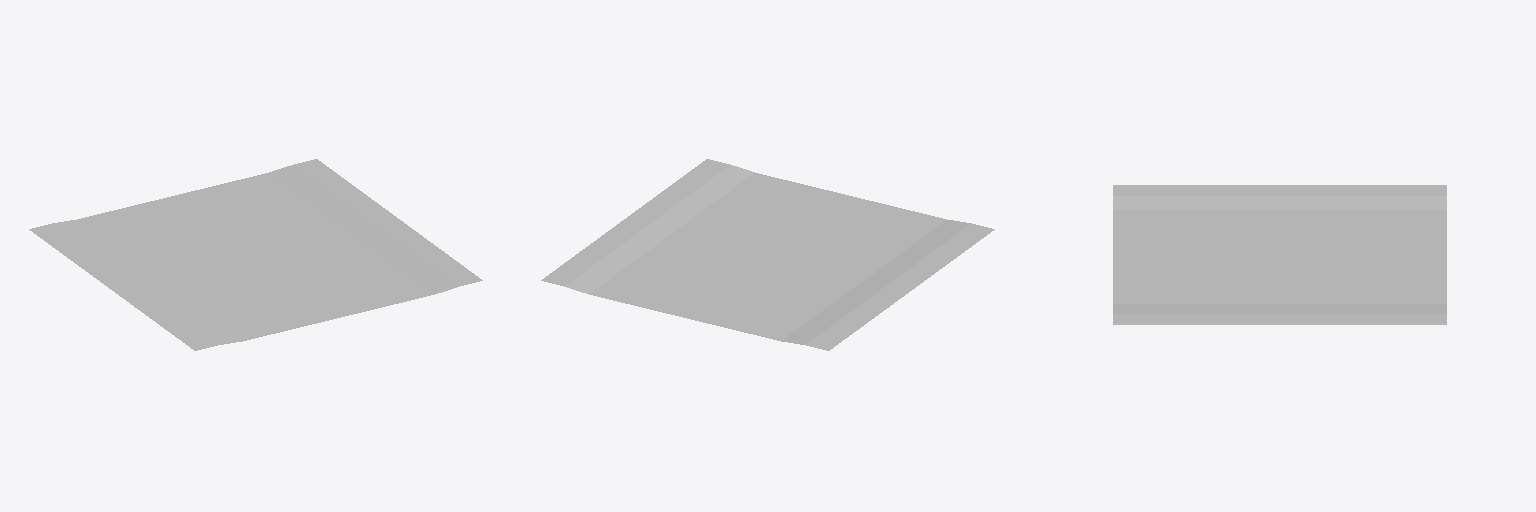
The model's file is road.obj.
3 views of the same model, side by side, from view 1: azimuth 30°, elevation 25°; view 2: azimuth 150°, elevation 25°; view 3: azimuth 270°, elevation 25° (orthographic).
Parts seen in each view (by area): view 1: Track_line_type_01_15m_free; view 2: Track_line_type_01_15m_free; view 3: Track_line_type_01_15m_free.
Boxes of the visible parts, x1=… form: Track_line_type_01_15m_free: x1=29, y1=159, x2=482, y2=350; Track_line_type_01_15m_free: x1=541, y1=159, x2=994, y2=350; Track_line_type_01_15m_free: x1=1113, y1=185, x2=1446, y2=324.
Bounding box in the file's own units: 15 × 0.1 × 15.